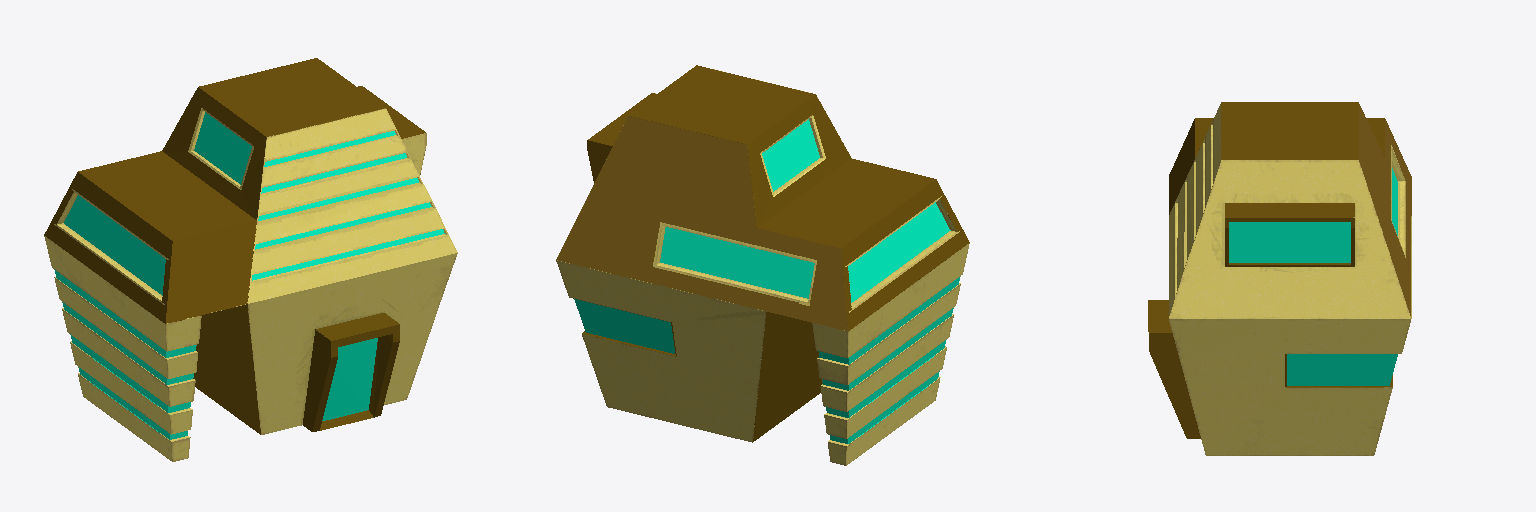
3 views of the same model, side by side, from view 1: azimuth 30°, elevation 25°; view 2: azimuth 150°, elevation 25°; view 3: azimuth 270°, elevation 25° (orthographic).
Visible parts, largest first — view 1: drorania_house; view 2: drorania_house; view 3: drorania_house.
Part boxes in pixels (bbox=[...]): drorania_house: bbox=[44, 58, 457, 461]; drorania_house: bbox=[556, 65, 969, 465]; drorania_house: bbox=[1148, 102, 1411, 455].
Size of the model in its own units: 74.65 by 70.65 by 58.17.
1 materials, 1 textured.